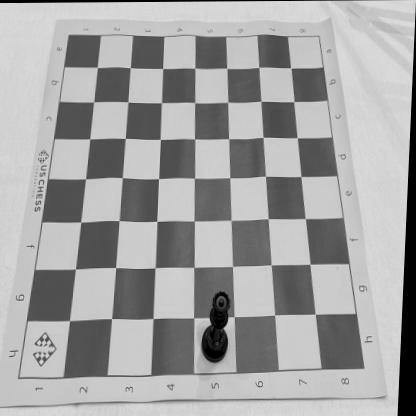black-queen: (203, 290, 234, 363)
